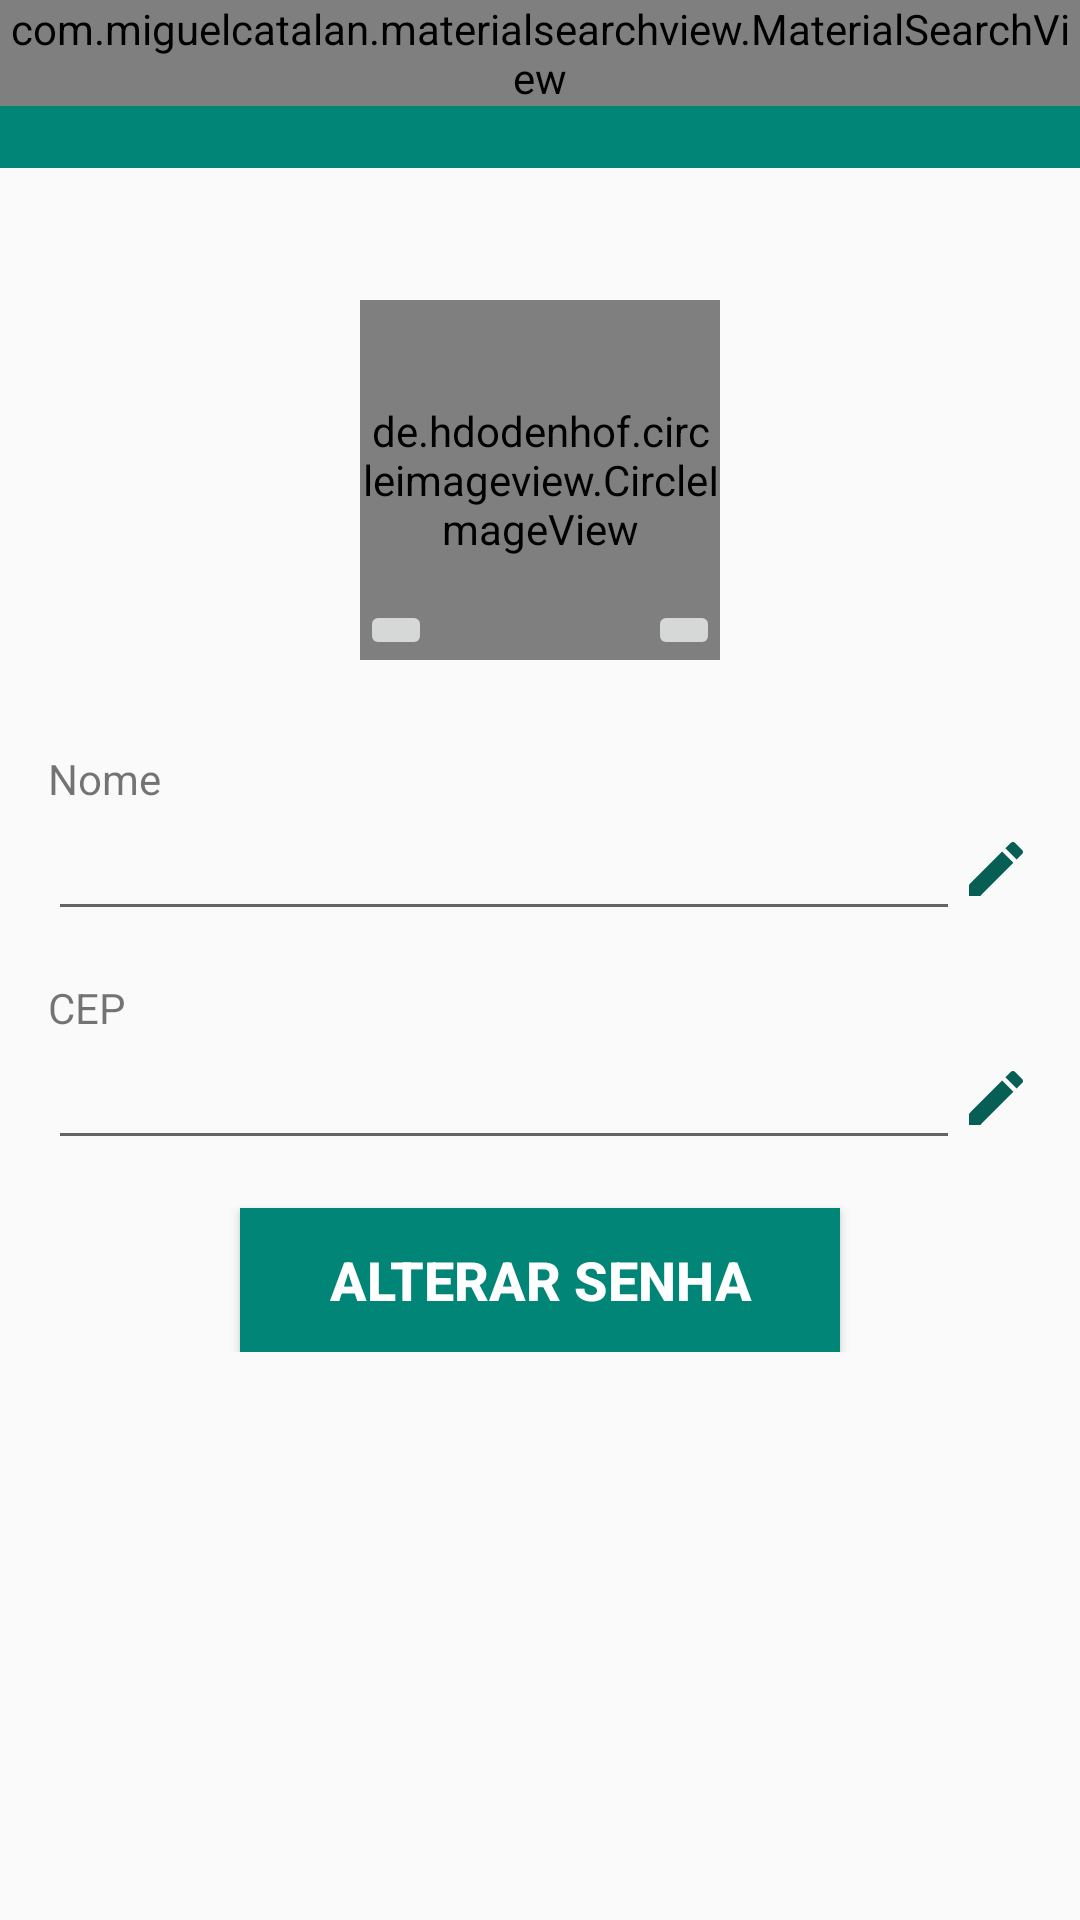

Icons on this 1080 × 1920 Android screen, each with the point to tap as (x,y):
edit: (996,869), (996,1098)
